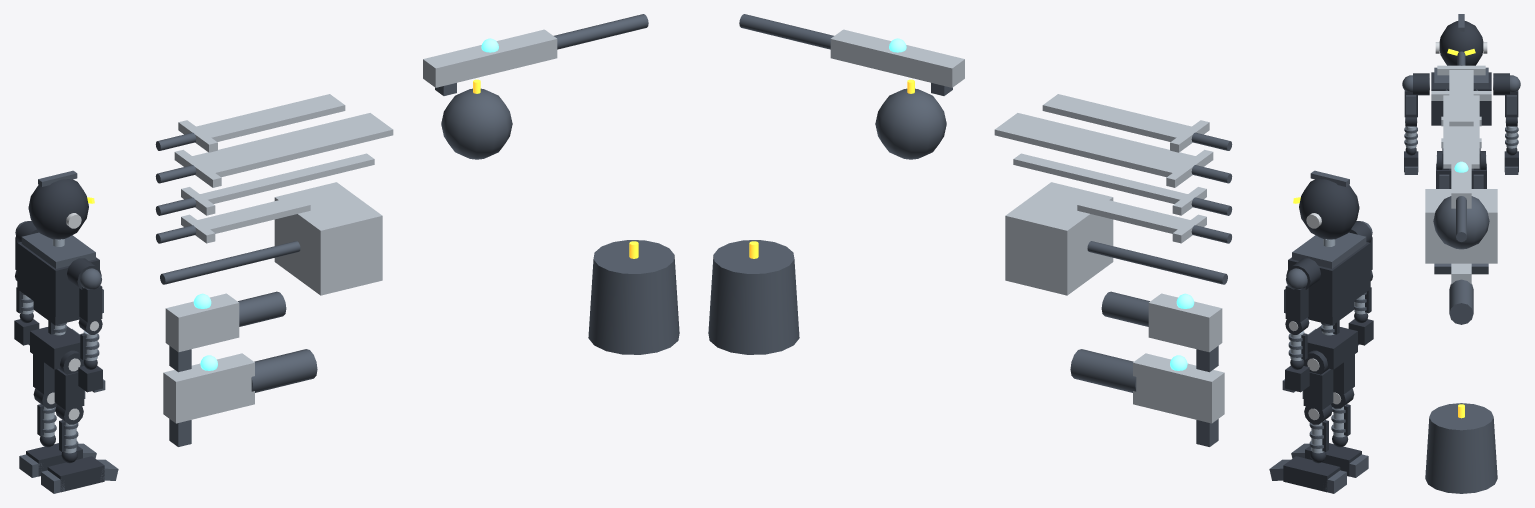
Rendered from weapon_sizes.glb.
3 renders of one model, left to right at view 1: azimuth 30°, elevation 25°; view 2: azimuth 150°, elevation 25°; view 3: azimuth 270°, elevation 25°, orthographic. The views are drawn at different scales.
Visible parts, largest first — view 1: body (×5), head (×2), blade (×4), chest, barrel (×3), foot_R, grip, leg_R, hips, foot_L, arm_R, shin_R (+2 smaller); view 2: body (×5), head (×2), blade (×4), chest, barrel (×3), foot_L, grip, leg_L, hips, foot_R, arm_L, shin_L (+2 smaller); view 3: body (×4), head (×2), blade (×2), chest, barrel (×2), guard (×2), arm_L, arm_R, forearm_L, forearm_R, leg_L, leg_R (+4 smaller).
Part boxes in pixels (x1,y1,x2,y2): body (×5): (163,29,679,446); head (×2): (28,170,382,295); blade (×4): (192,94,393,233); chest: (16,221,101,335); barrel (×3): (238,14,648,392); foot_R: (41,456,118,493); grip: (160,241,300,284); leg_R: (54,350,85,410); hips: (30,326,80,369); foot_L: (19,443,96,477); arm_R: (79,268,103,322); shin_R: (55,404,83,463); body (×5): (708,29,1224,446); head (×2): (1005,170,1359,295); blade (×4): (994,94,1195,233); chest: (1286,221,1371,335); barrel (×3): (739,14,1149,392); foot_L: (1269,456,1346,493); grip: (1087,241,1227,284); leg_L: (1302,350,1333,410); hips: (1307,326,1357,369); foot_R: (1291,443,1368,477); arm_L: (1284,268,1308,322); shin_L: (1304,404,1332,463); body (×4): (1425,146,1497,493); head (×2): (1425,14,1497,263); blade (×2): (1443,70,1479,168); chest: (1413,67,1509,125); barrel (×2): (1449,196,1473,324); guard (×2): (1431,65,1491,100); arm_L: (1505,75,1520,117); arm_R: (1402,75,1417,117); forearm_L: (1505,117,1518,155); forearm_R: (1404,117,1417,155); leg_L: (1471,151,1486,188); leg_R: (1436,151,1451,188).
Bounding box in the file's own units: 2.9 × 1.44 × 0.59.
